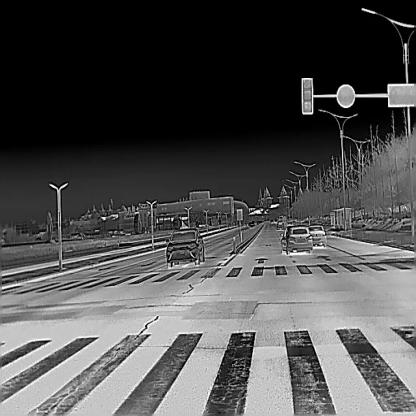car: (165, 228, 204, 266), (280, 226, 312, 254), (308, 224, 326, 247), (276, 219, 284, 229), (248, 223, 255, 230)
